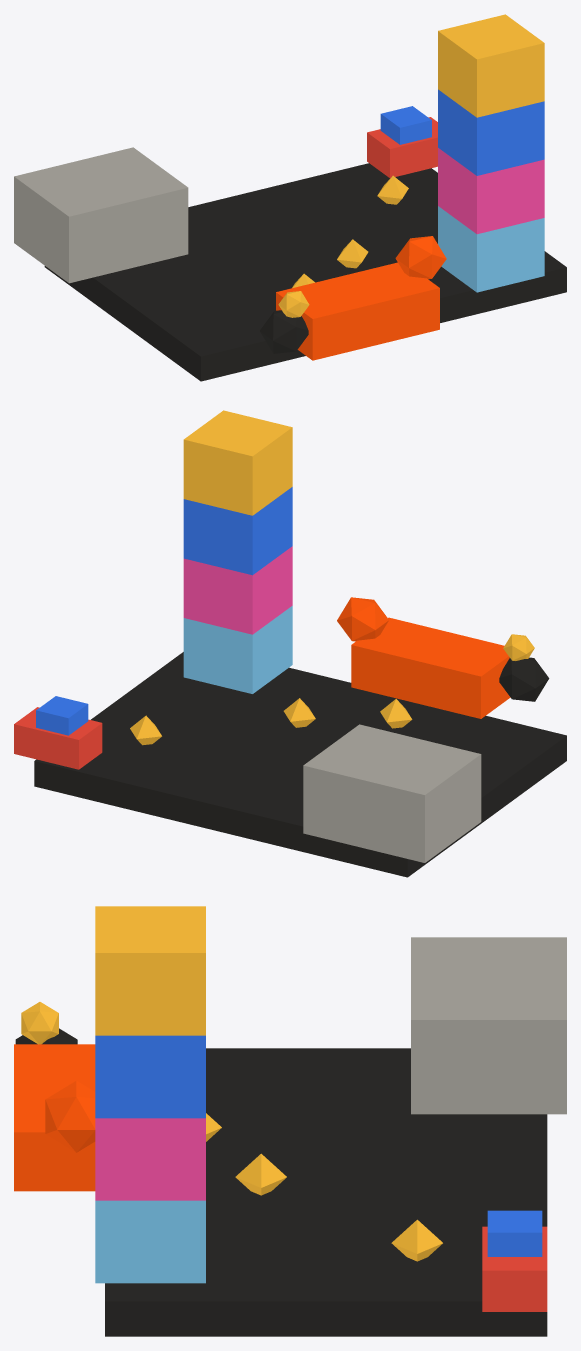
Rendered from star-yard.glb.
3 renders of one model, top to bottom at view 1: azimuth 30°, elevation 25°; view 2: azimuth 150°, elevation 25°; view 3: azimuth 270°, elevation 25°, orthographic. The views are drawn at different scales.
Bounding box in the file's own units: 5.15 × 3.1 × 4.25.
